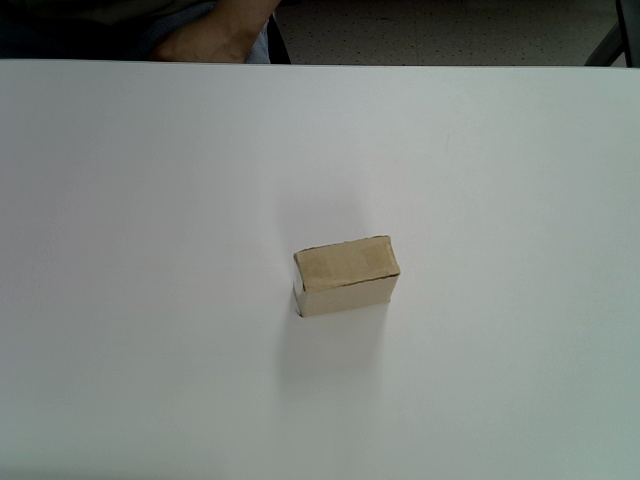normal: (291, 235, 403, 317)
